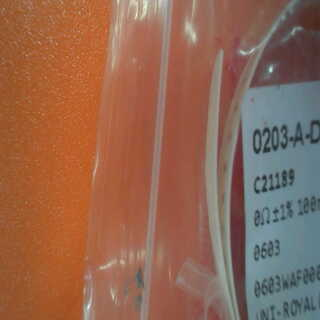0R: (250, 196, 296, 263)
